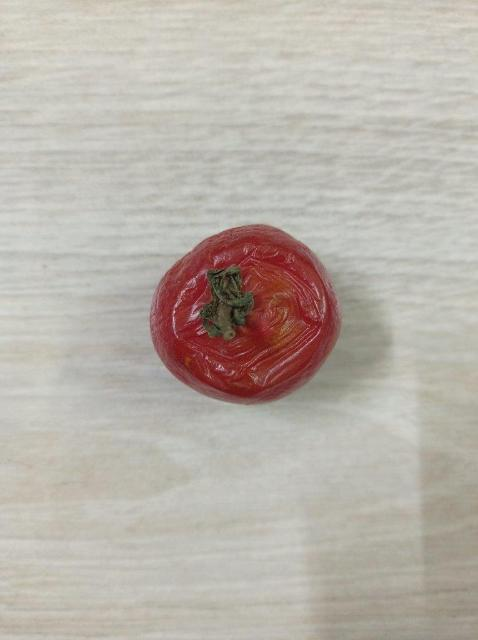defect: (147, 219, 345, 410)
